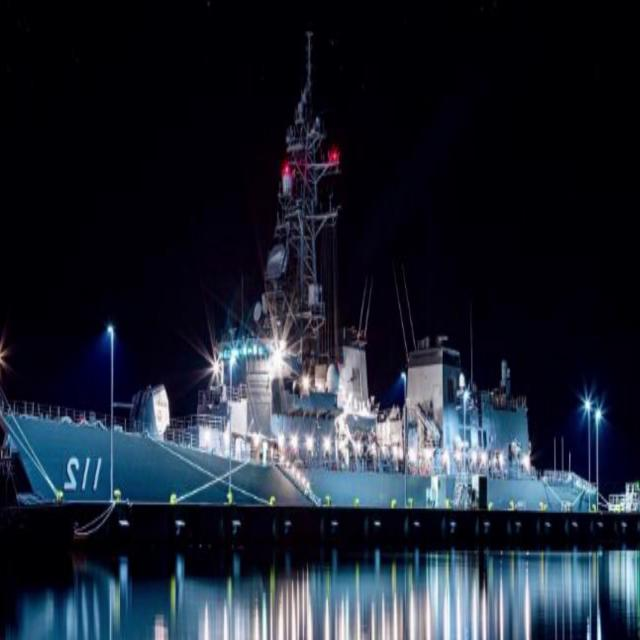navalvessels: (0, 105, 597, 608)
